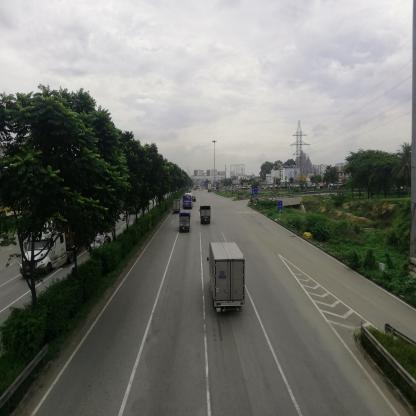bus: (184, 195, 194, 211)
car: (91, 237, 112, 250)
container: (17, 233, 76, 269)
truck: (211, 244, 244, 314), (181, 212, 192, 234), (200, 207, 212, 226), (173, 197, 181, 214)
